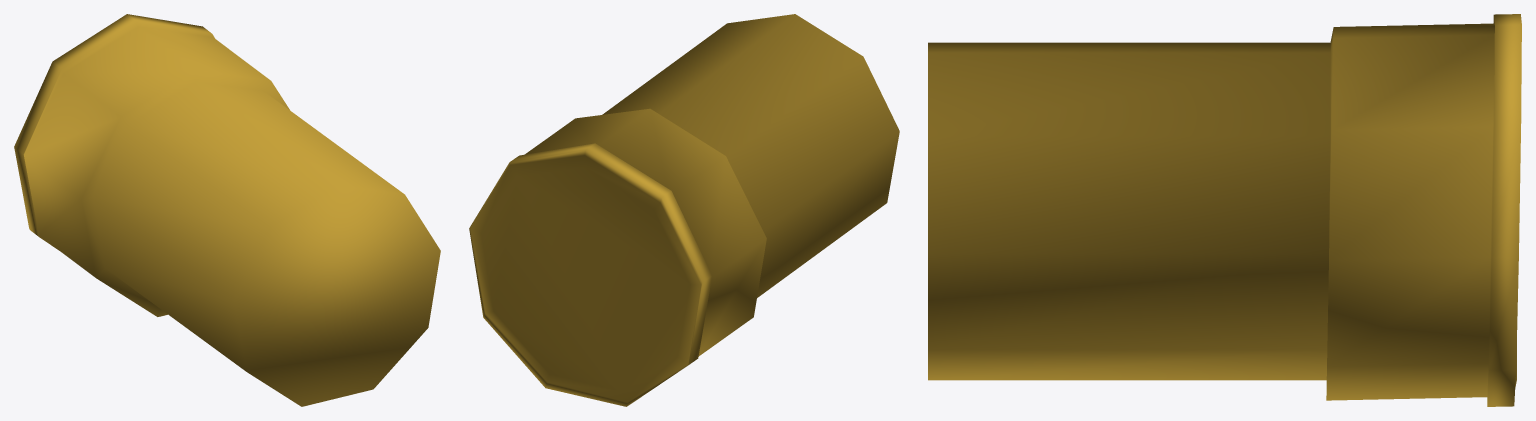
Rendered from shellCasing.glb.
The picture shows the model from 3 angles, left to right: view 1: azimuth 30°, elevation 25°; view 2: azimuth 150°, elevation 25°; view 3: azimuth 270°, elevation 25°; orthographic projection. The views are drawn at different scales.
Parts seen in each view (by area): view 1: Cylinder; view 2: Cylinder; view 3: Cylinder.
Part boxes in pixels (x1,y1,x2,y2): Cylinder: (14, 14, 440, 406); Cylinder: (469, 14, 899, 406); Cylinder: (928, 14, 1521, 406).
Size of the model in its own units: 0.0374 by 0.0383 by 0.0585.
